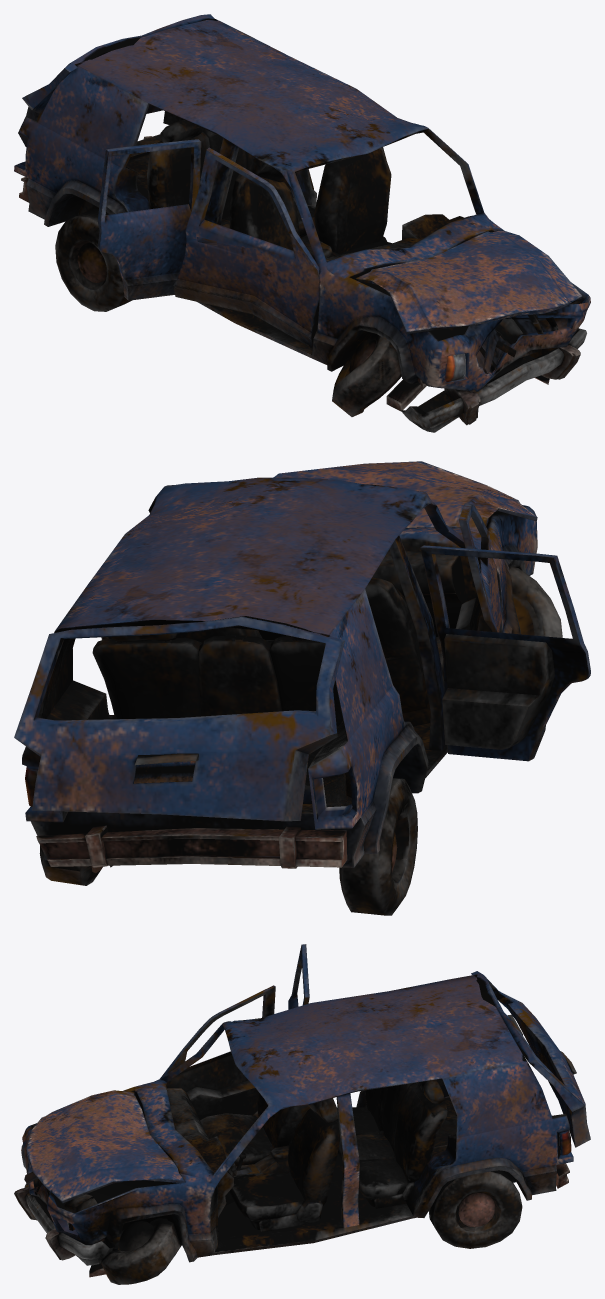
3 views of the same model, one above another, from view 1: azimuth 30°, elevation 25°; view 2: azimuth 150°, elevation 25°; view 3: azimuth 270°, elevation 25° (orthographic). The views are drawn at different scales.
Parts seen in each view (by area): view 1: KUZA_1, KAPOT_0, DRONT-QAPI_3, BACK-QAPI_4, FRONT-BUFER_2, TEKER.001_7, TEKER_6, BAQAJ_5; view 2: KUZA_1, BAQAJ_5, BACK-QAPI_4, KAPOT_0, TEKER.001_7, DRONT-QAPI_3, TEKER_6, TEKER.002_8; view 3: KUZA_1, KAPOT_0, TEKER.002_8, DRONT-QAPI_3, BAQAJ_5, TEKER.003_9, FRONT-BUFER_2, BACK-QAPI_4.
Part boxes in pixels (box(x1,y1,x2,y2)): KUZA_1: box(14, 19, 590, 411); KAPOT_0: box(355, 230, 582, 334); DRONT-QAPI_3: box(173, 147, 319, 348); BACK-QAPI_4: box(97, 139, 201, 300); FRONT-BUFER_2: box(400, 328, 586, 432); TEKER.001_7: box(55, 208, 131, 311); TEKER_6: box(332, 333, 401, 416); BAQAJ_5: box(18, 14, 214, 147); KUZA_1: box(22, 477, 537, 868); BAQAJ_5: box(14, 616, 344, 821); BACK-QAPI_4: box(420, 545, 590, 761); KAPOT_0: box(273, 461, 537, 533); TEKER.001_7: box(339, 778, 417, 915); DRONT-QAPI_3: box(455, 503, 502, 632); TEKER_6: box(509, 566, 562, 637); TEKER.002_8: box(39, 845, 102, 885); KUZA_1: box(21, 974, 573, 1277); KAPOT_0: box(26, 1090, 184, 1203); TEKER.002_8: box(428, 1170, 522, 1248); DRONT-QAPI_3: box(160, 985, 275, 1119); BAQAJ_5: box(471, 971, 590, 1147); TEKER.003_9: box(101, 1218, 181, 1284); FRONT-BUFER_2: box(14, 1183, 113, 1265); BACK-QAPI_4: box(288, 944, 309, 1009).
Size of the model in its own units: 5.14 by 2.92 by 7.64.
1 material, 1 textured.
